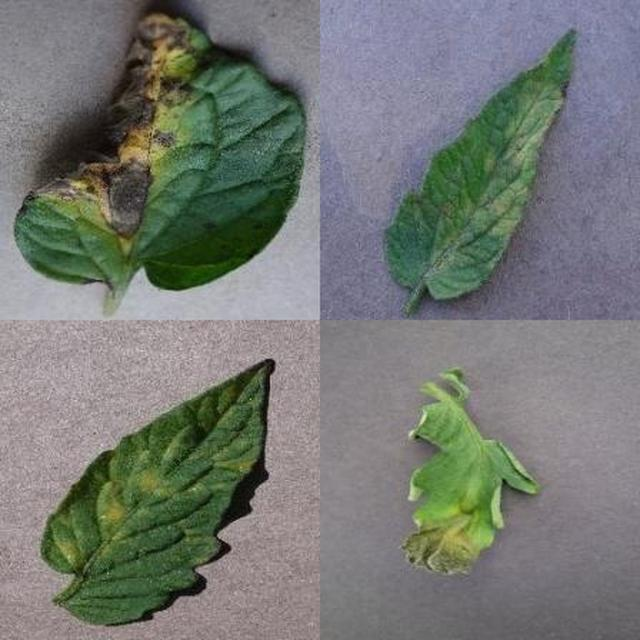Early Blight Leaf: (196, 215, 640, 640)
